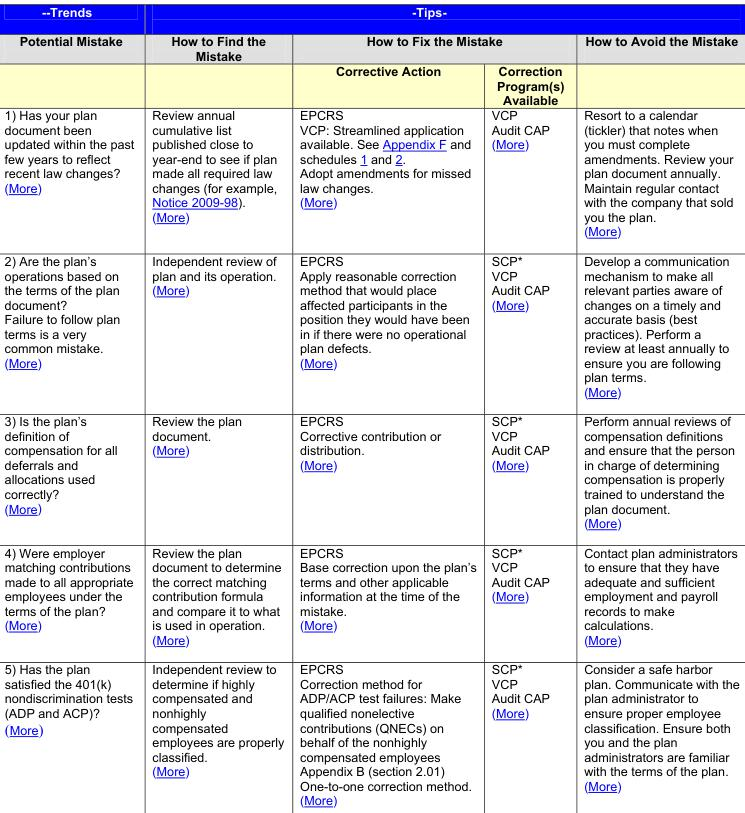table: (3, 4, 738, 806)
table column: (291, 4, 483, 806), (573, 4, 738, 806), (142, 4, 291, 806), (3, 4, 142, 806), (483, 4, 573, 806)
table column header: (3, 4, 738, 107)
table row: (3, 245, 738, 406), (3, 654, 738, 806), (3, 107, 738, 245), (3, 406, 738, 537), (3, 537, 738, 654), (3, 55, 738, 107), (3, 26, 738, 55), (3, 4, 738, 26)
table spanning cell: (3, 4, 142, 107), (573, 26, 738, 107), (142, 4, 738, 26), (142, 26, 291, 107), (291, 26, 573, 55)
